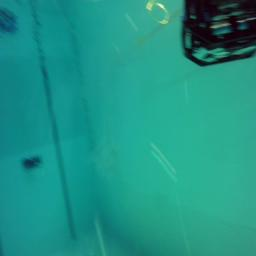Full: (21, 156, 43, 172)
Side: (181, 1, 256, 65)
